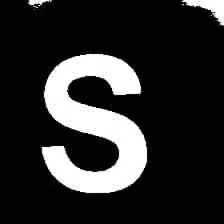LTR_S: (35, 47, 150, 195)
